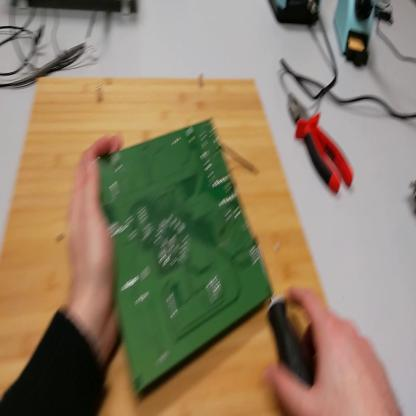hand: (265, 288, 399, 415), (67, 130, 126, 348)
low voltage board: (98, 116, 277, 404)
oscilloscope probe tip: (12, 43, 87, 91)
pliers: (289, 94, 357, 196)
screwdriver-: (249, 235, 304, 398)
welder base: (335, 1, 380, 69)
welder station: (269, 2, 322, 30)
working area: (1, 79, 330, 415)
